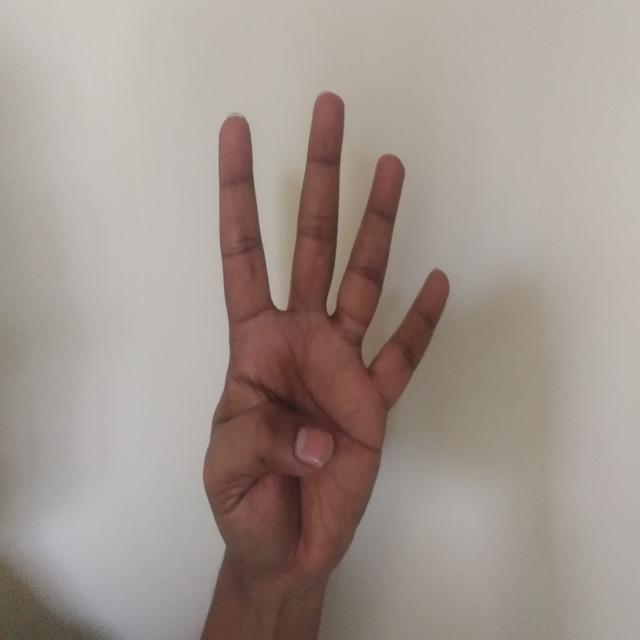Thanks: (184, 77, 464, 588)
